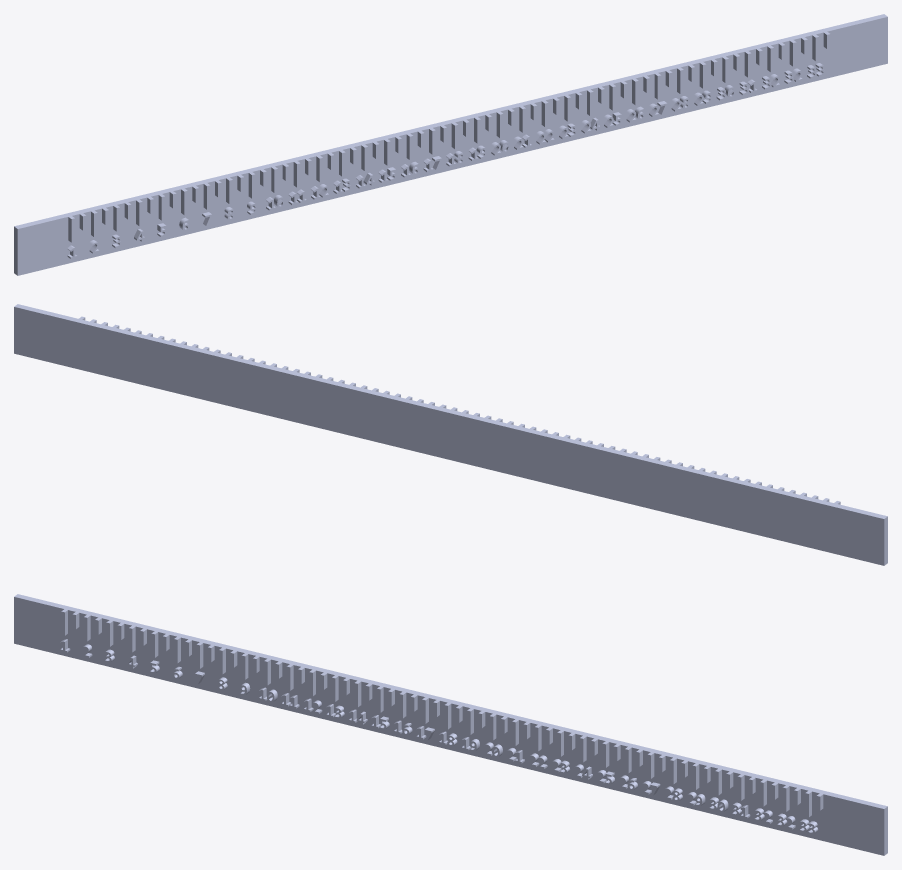
File: Regla.glb
The picture shows the model from 3 angles, top to bottom: view 1: azimuth 30°, elevation 25°; view 2: azimuth 150°, elevation 25°; view 3: azimuth 330°, elevation 25°; orthographic projection.
Visible parts, largest first — view 1: Regla; view 2: Regla; view 3: Regla.
Boxes of the visible parts, box(x1,y1,x2,y2) form: Regla: box(14, 14, 887, 275); Regla: box(14, 304, 887, 565); Regla: box(14, 594, 887, 855).
Size of the model in its own units: 0.3859 by 0.0199 by 0.00543.
